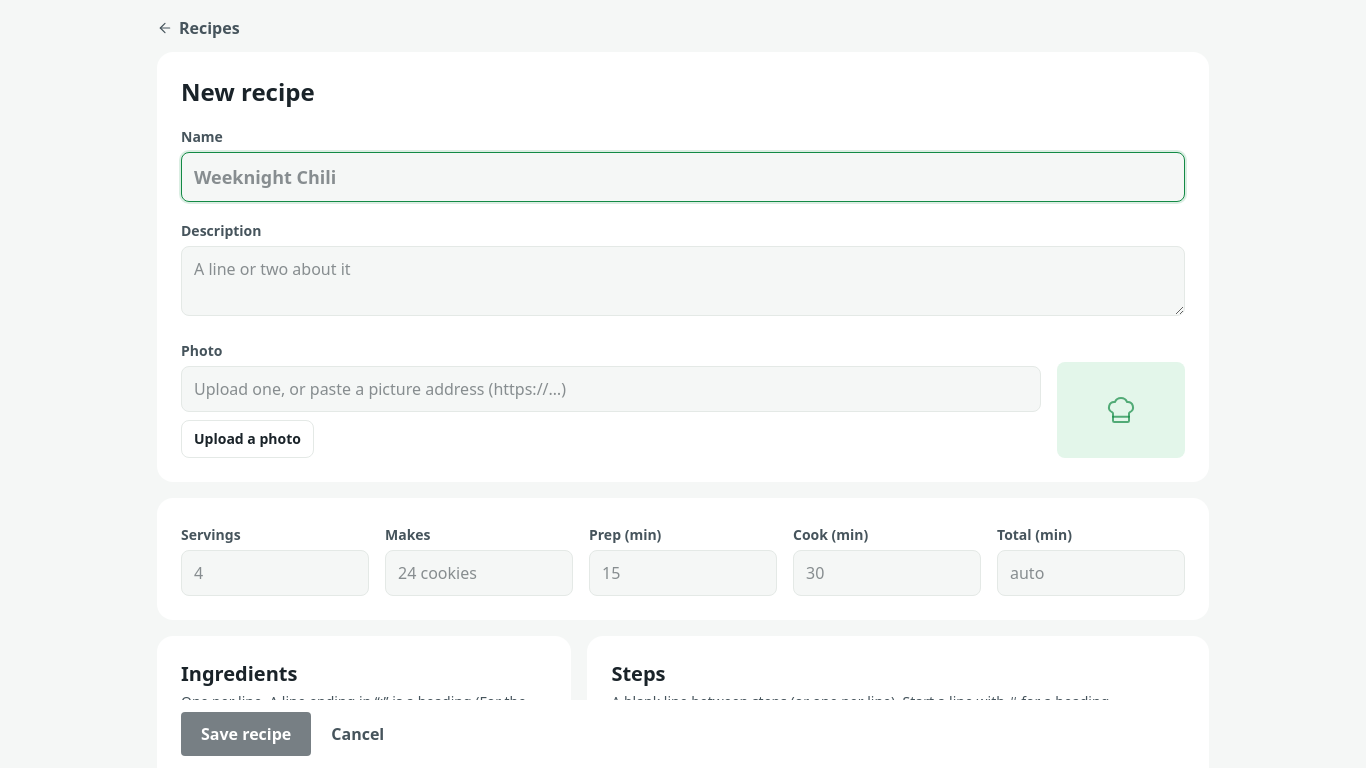
adding a recipe by hand › Enter in the tags box adds the tag and doesn't save
Type "Pancakes" into the field labelled "Name" at (683, 177), box [181,152,1185,202]
(page scrolled)
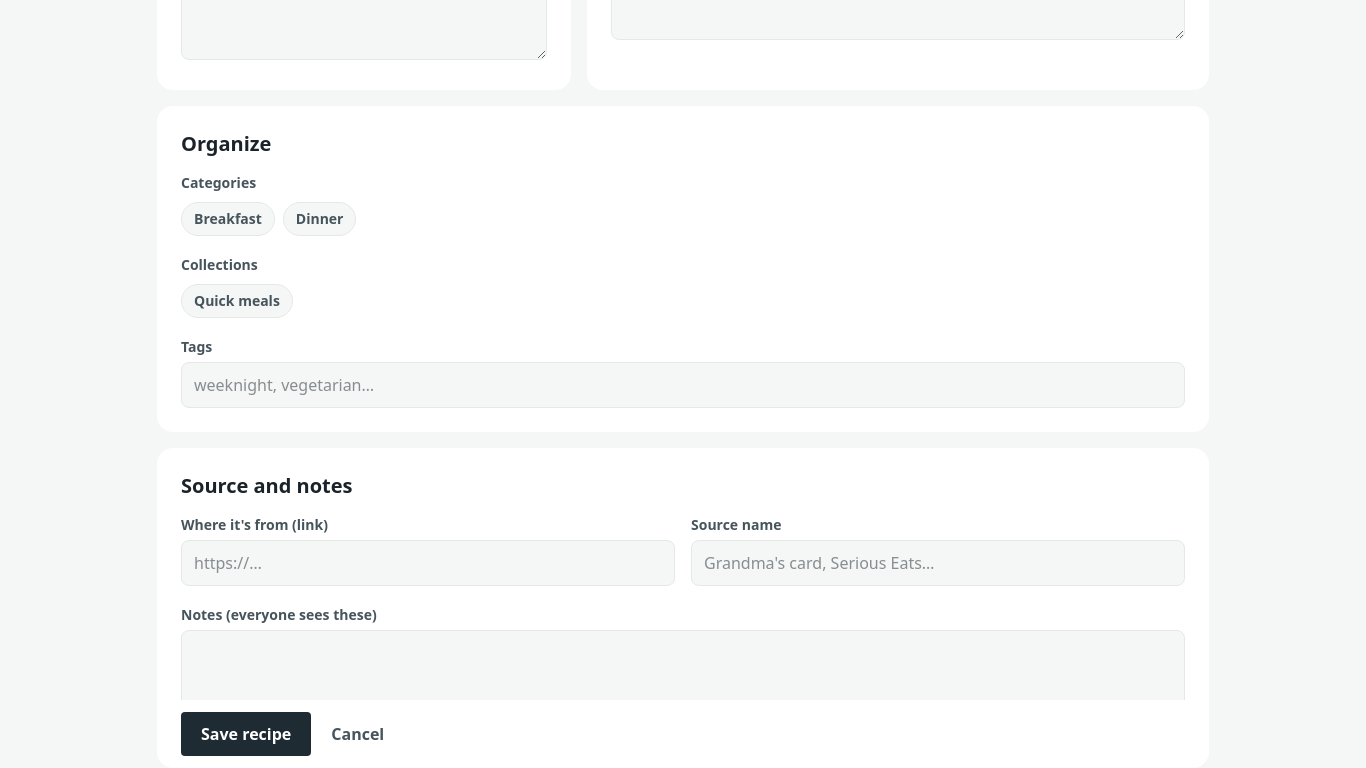
Type "Sweet" into the field labelled "Tags" at (683, 384), box [190,368,1176,400]
Then press Enter
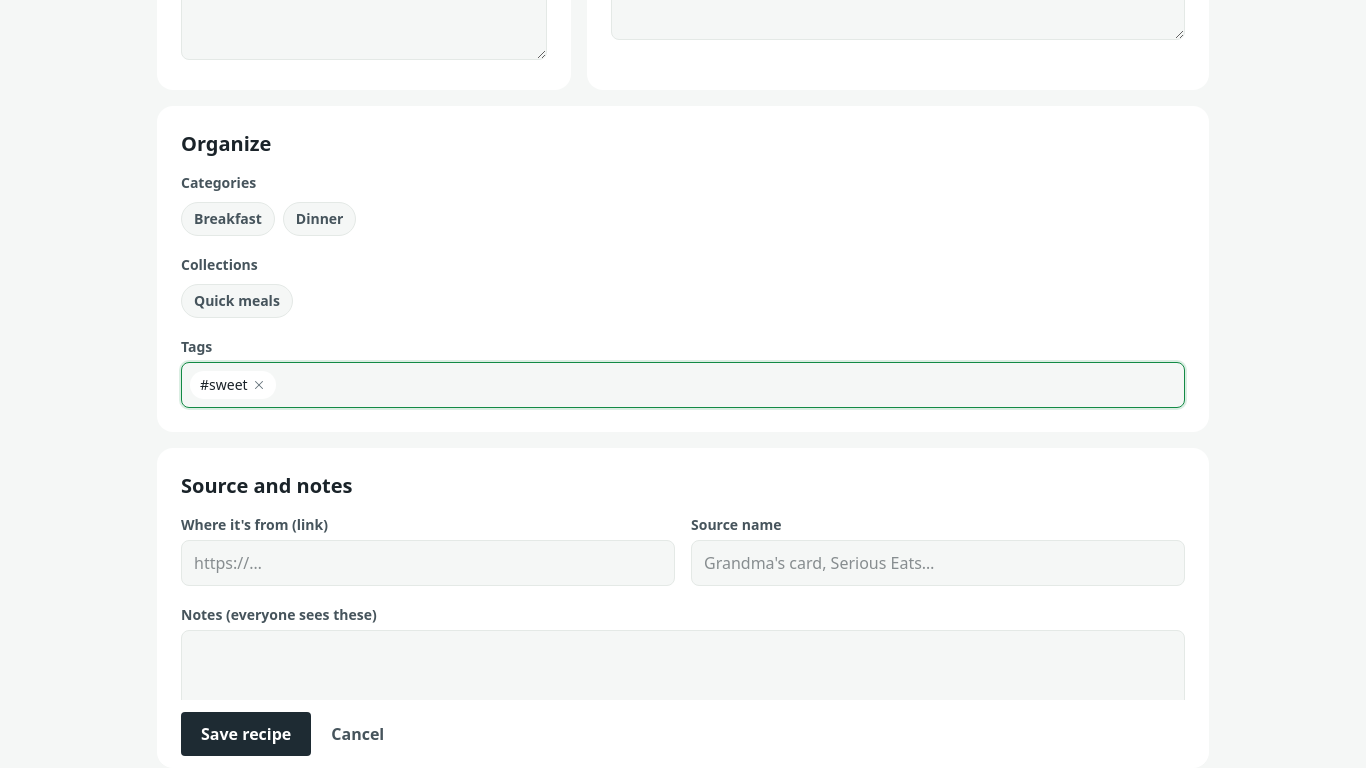
Now the text "#sweet" is shown, box [190,370,276,398]
